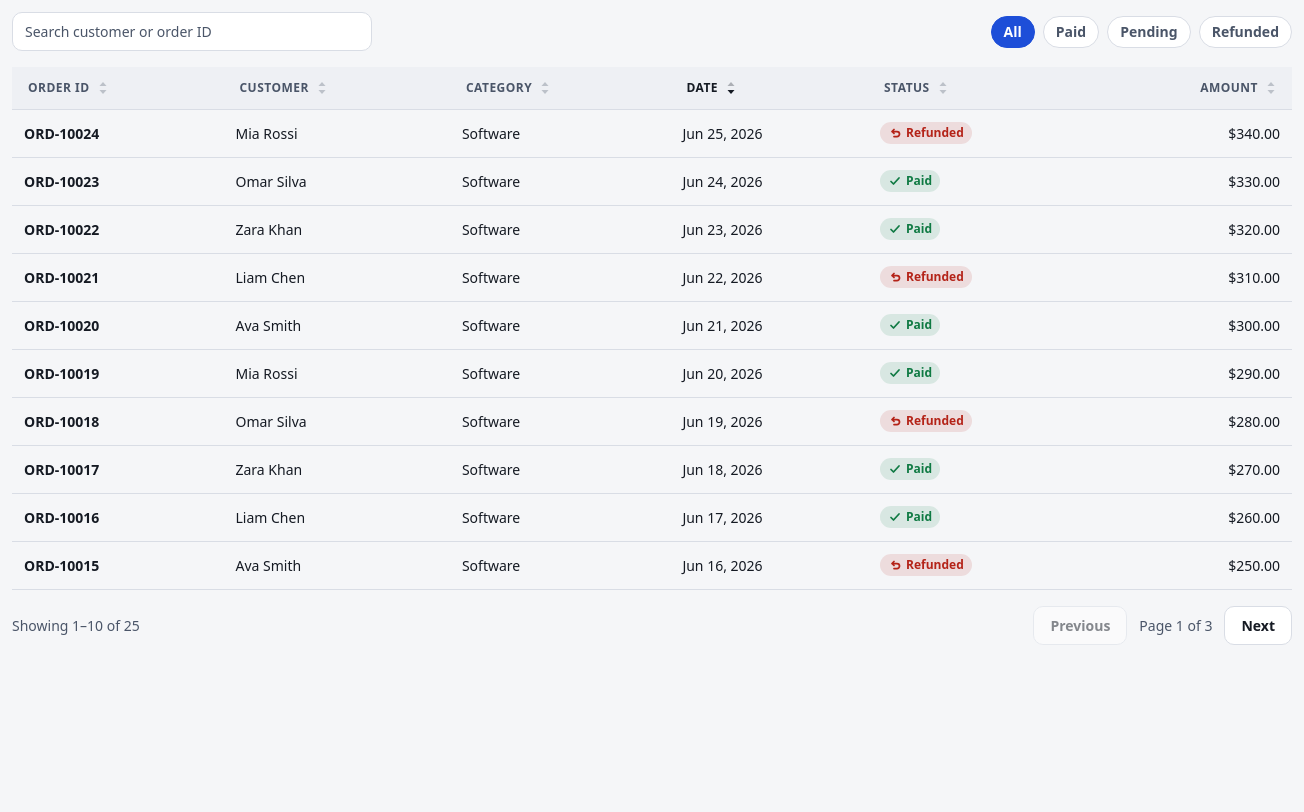
Test: OrdersTable › paginates ten rows at a time
The image size is (1304, 812).
Expected: the text "Showing 1–10 of 25" is shown, [12,615,140,636]
Expected: the button "Previous" is disabled, [1033,606,1127,645]
What coordinates should you click on to do the following:
click the button "Next"
I would click on:
 (1258, 626)
Its box is [1224,606,1292,645].
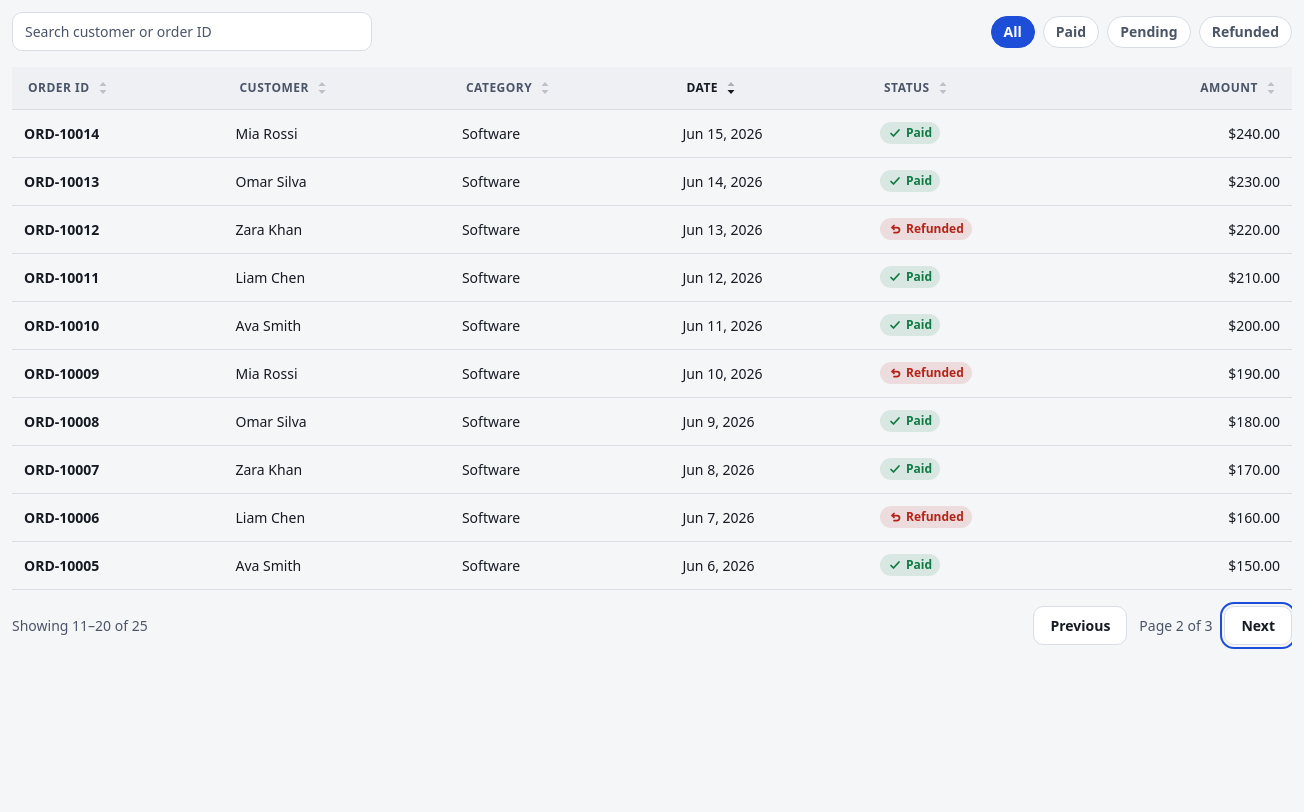
What coordinates should you click on to do the following:
click the button "Next"
I would click on:
 (1258, 626)
Its box is [1224,606,1292,645].
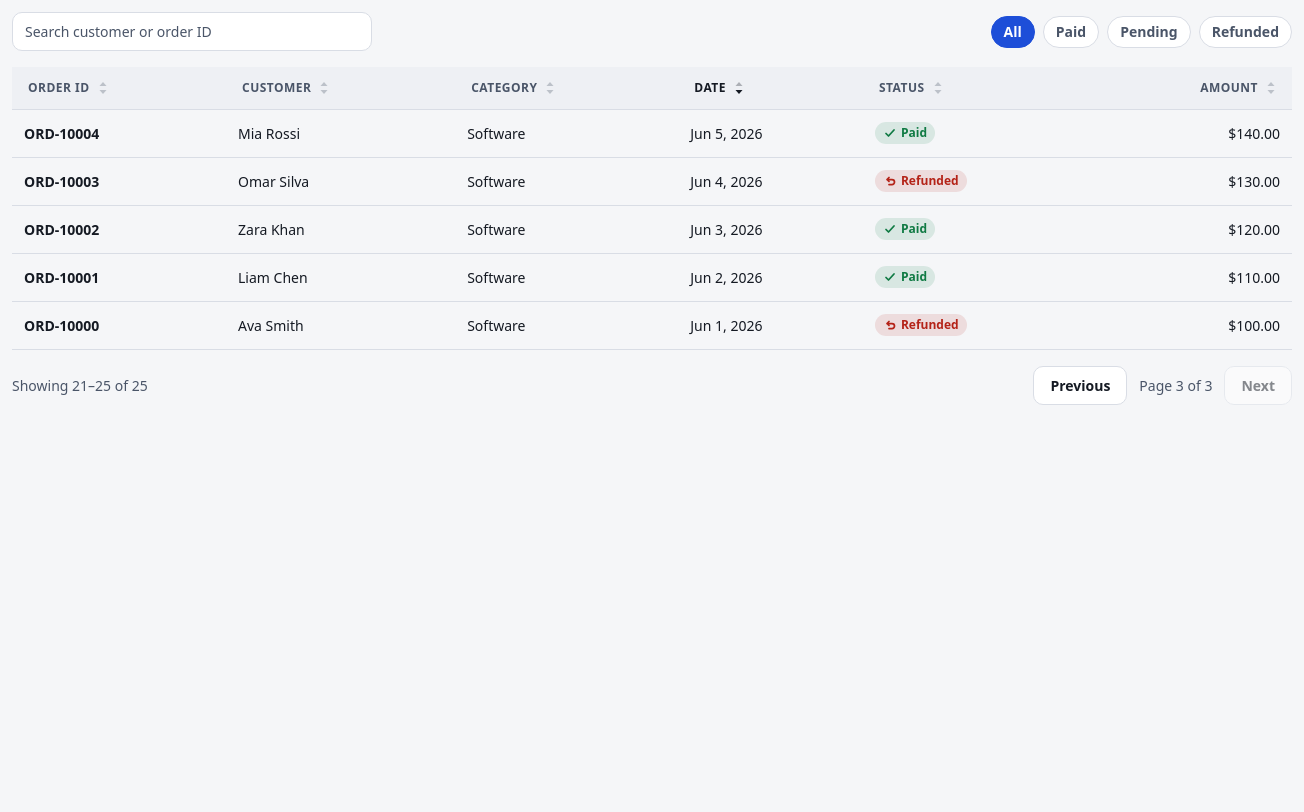
Result: the text "Showing 21–25 of 25" is shown at [12,375,148,396]
Result: the button "Next" is disabled at [1224,366,1292,405]
